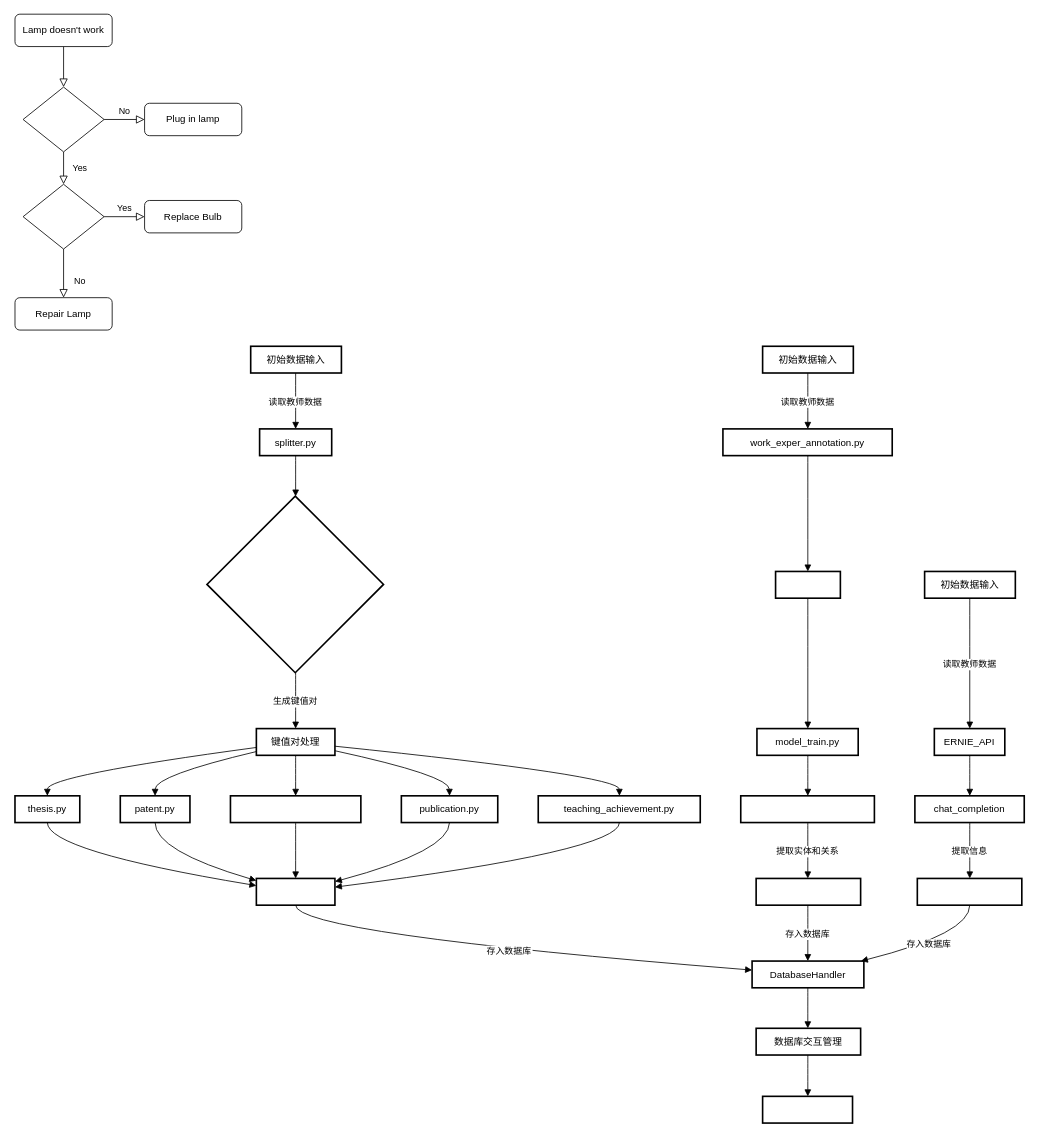
The diagram is 1038 pixels wide and 1138 high, and some of its shapes have lost their labels. The shapes that lost their labels are listed below. From the top down, each one's centre as x and y in pixels, then its label:
the point at 63,119: Lamp plugged in?
the point at 63,216: Bulb burned out?
the point at 295,584: 正则表达式+关键字匹配
the point at 807,584: 数据标注
the point at 295,809: research_project.py
the point at 807,809: model_prediction.py
the point at 295,891: 结构化数据
the point at 808,891: 存储结构化信息
the point at 969,891: 数据处理与存储
the point at 807,1109: 最终数据输出
